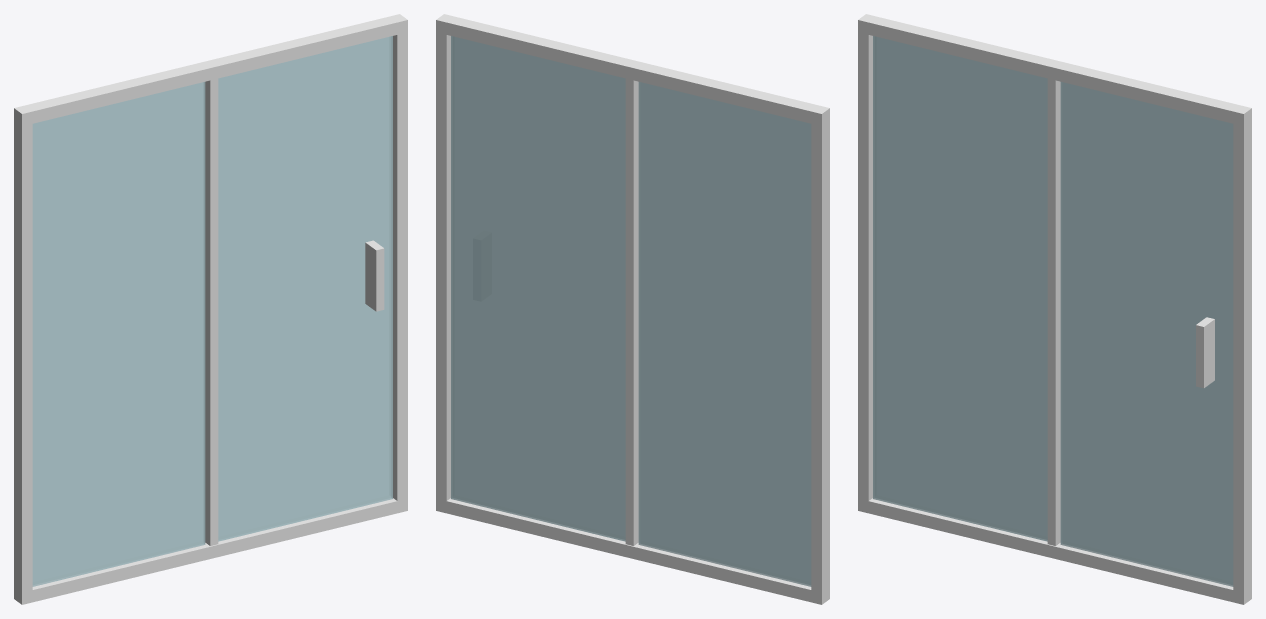
The model's file is mampara-blanco-esmerilado.glb.
3 views of the same model, side by side, from view 1: azimuth 30°, elevation 25°; view 2: azimuth 150°, elevation 25°; view 3: azimuth 330°, elevation 25° (orthographic).
Visible parts, largest first — view 1: glass-0.4, glass0.4, post-0.8, rail1.975, post0.8, center, rail0.025, handle; view 2: glass0.4, glass-0.4, post-0.8, rail1.975, post0.8, center, rail0.025; view 3: glass-0.4, glass0.4, post0.8, rail1.975, post-0.8, center, rail0.025, handle.
Boxes of the visible parts, x1,y1,x2,y2 form: glass-0.4: (32,82,205,586); glass0.4: (218,36,392,541); post-0.8: (14,105,32,604); rail1.975: (25,15,401,124); post0.8: (392,14,407,513); center: (204,61,218,545); rail0.025: (27,498,402,602); handle: (365,240,384,311); glass0.4: (451,36,625,541); glass-0.4: (638,82,811,586); post-0.8: (811,105,829,604); rail1.975: (441,16,820,124); post0.8: (436,14,452,512); center: (625,61,638,545); rail0.025: (441,498,816,603); glass-0.4: (873,36,1047,541); glass0.4: (1060,82,1233,586); post0.8: (1233,105,1251,604); rail1.975: (863,15,1240,124); post-0.8: (858,14,873,513); center: (1047,60,1061,545); rail0.025: (863,498,1238,603); handle: (1196,317,1214,388).
Size of the model in its own units: 1.64 by 2 by 0.12.
